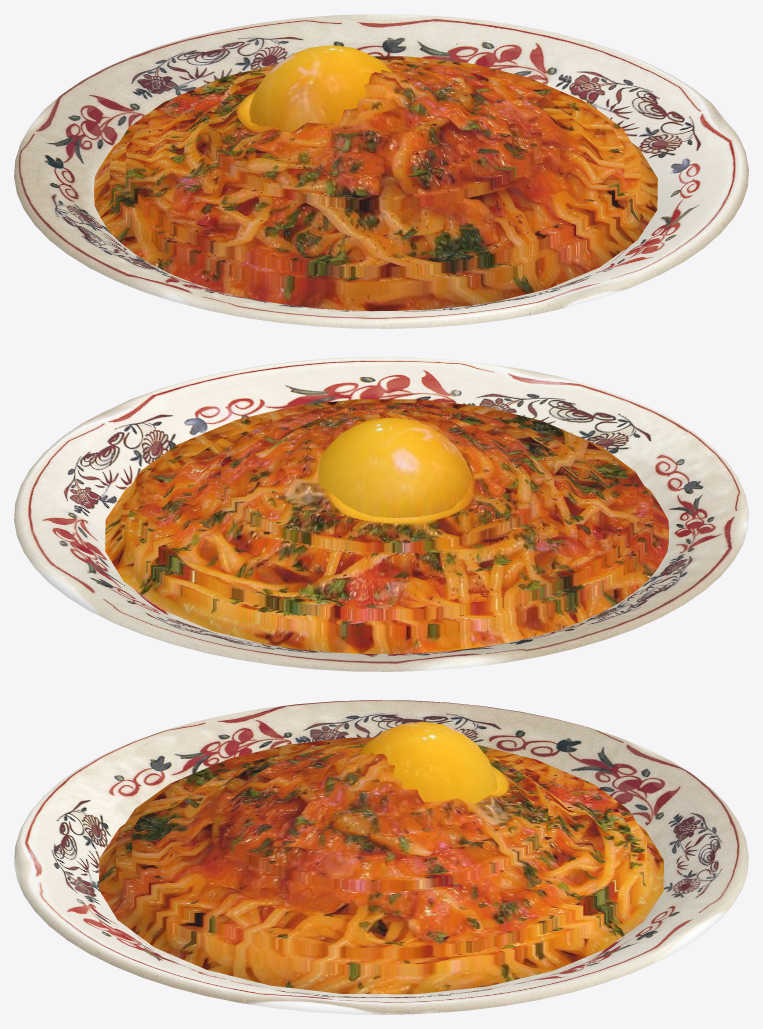
Rendered from food-a.glb.
3 renders of one model, top to bottom at view 1: azimuth 30°, elevation 25°; view 2: azimuth 150°, elevation 25°; view 3: azimuth 270°, elevation 25°, orthographic.
Visible parts, largest first — view 1: Material2, Material3; view 2: Material2, Material3; view 3: Material2, Material3.
Part boxes in pixels (x1=…): Material2: x1=94, y1=45, x2=657, y2=310; Material3: x1=14, y1=14, x2=748, y2=328; Material2: x1=105, y1=399, x2=668, y2=653; Material3: x1=14, y1=357, x2=748, y2=671; Material2: x1=99, y1=721, x2=663, y2=994; Material3: x1=14, y1=700, x2=748, y2=1014.
Bounding box in the file's own units: 17.98 × 4.41 × 17.98.
Materials: 4 (2 with a texture image).
